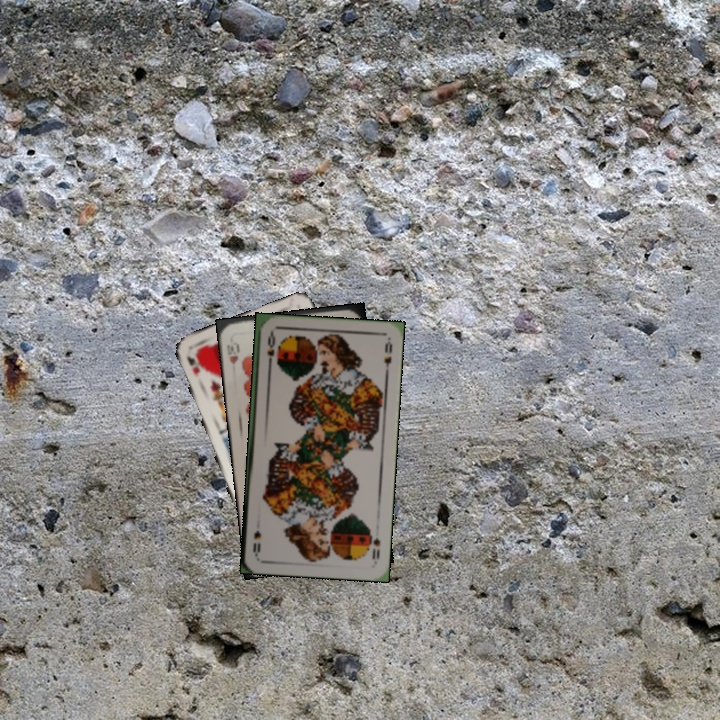H10: (223, 333, 242, 367)
HK: (183, 352, 203, 379)
SO: (263, 329, 278, 369), (366, 531, 383, 565)
